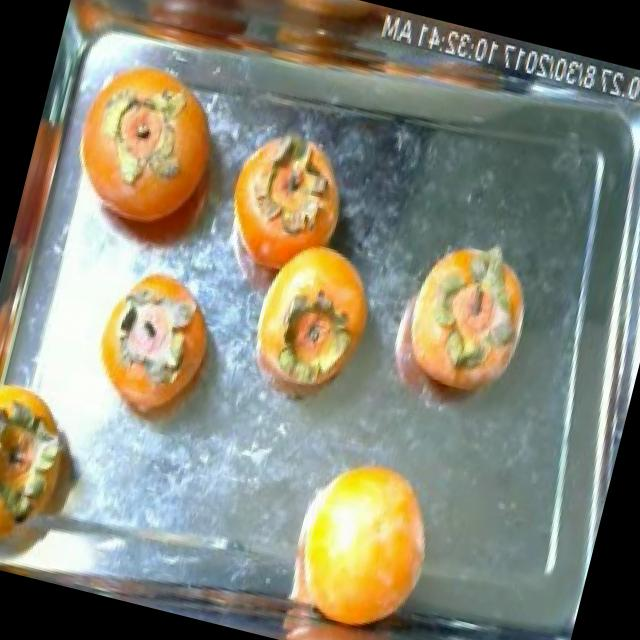Fruit: (262, 433, 461, 640), (196, 99, 375, 312), (67, 244, 242, 448), (233, 220, 399, 426), (388, 222, 549, 416)
